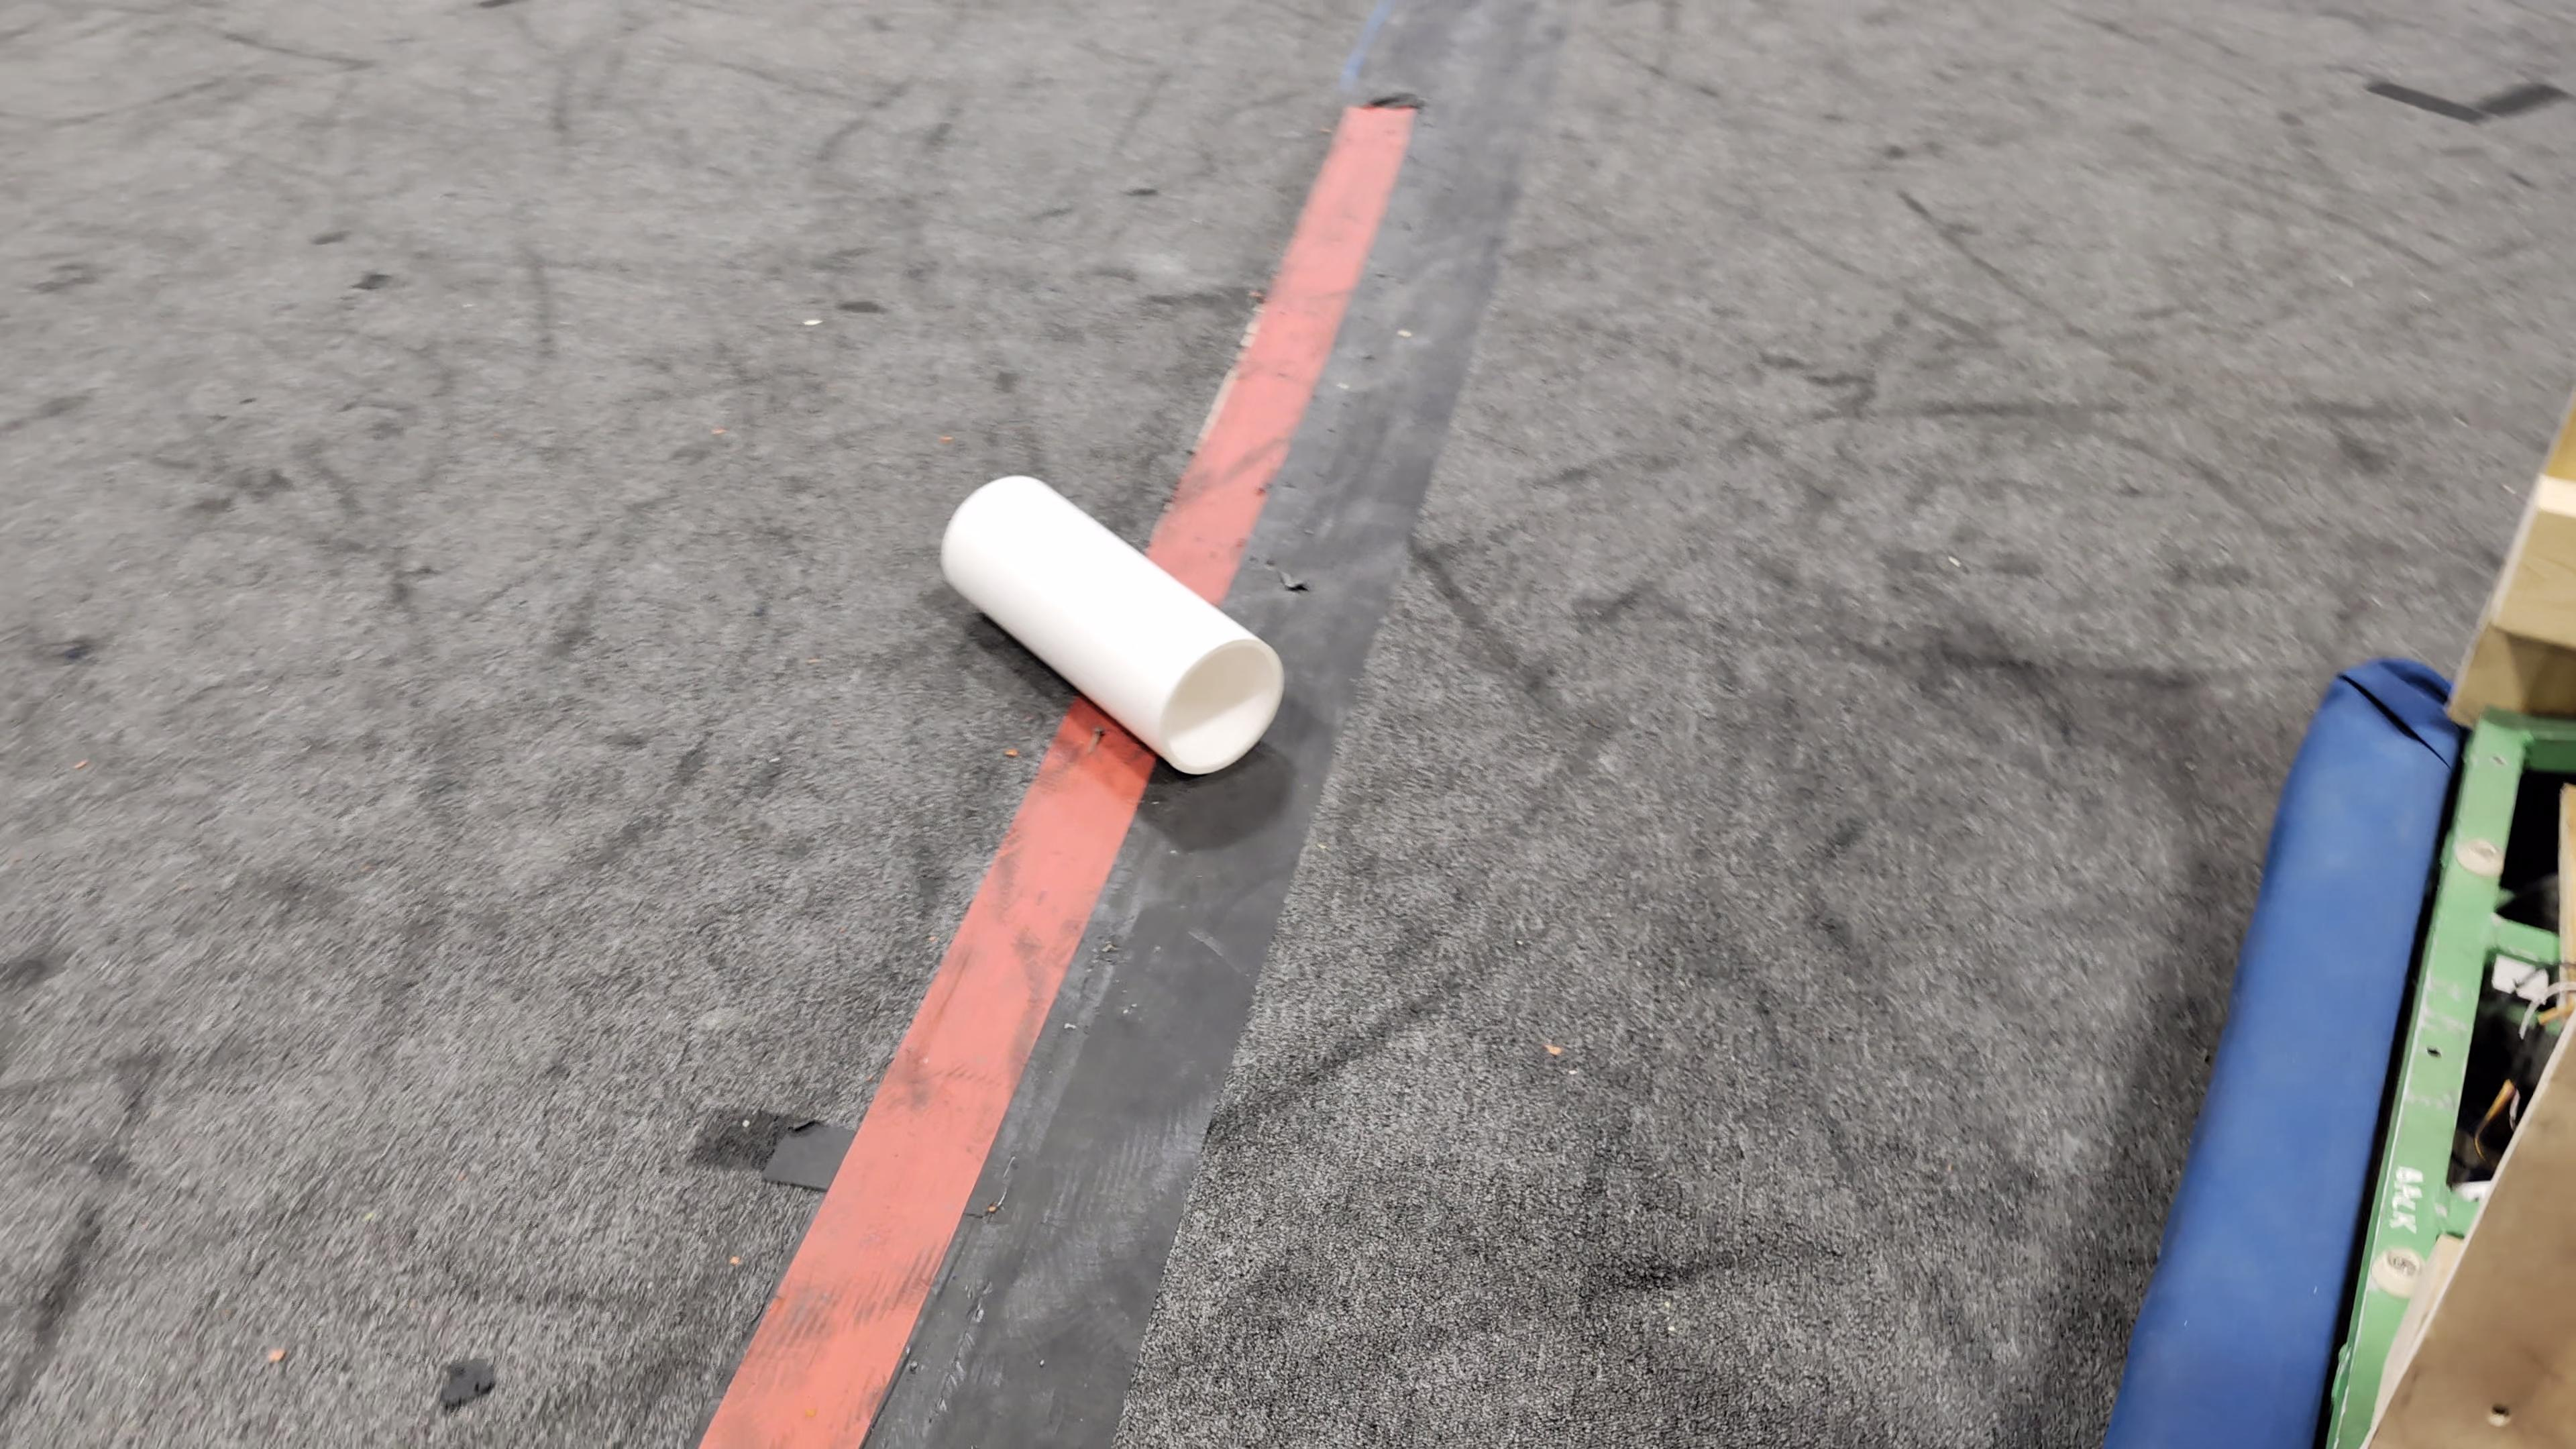coral: (938, 469, 1288, 777)
